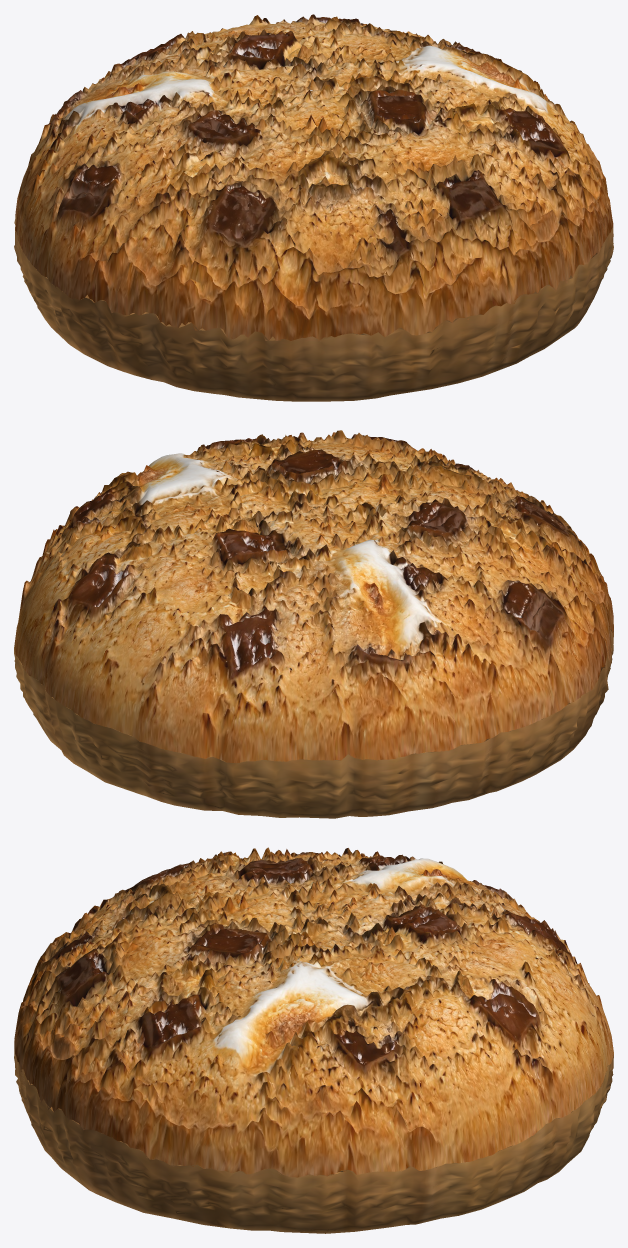
The model's file is cookie-smores.glb.
The picture shows the model from 3 angles, top to bottom: view 1: azimuth 30°, elevation 25°; view 2: azimuth 150°, elevation 25°; view 3: azimuth 270°, elevation 25°; orthographic projection.
Parts seen in each view (by area): view 1: base | V3 | Photographic sculpt | smores.001, base | V3 | Craggy baked edge | smores.001; view 2: base | V3 | Photographic sculpt | smores.001, base | V3 | Craggy baked edge | smores.001; view 3: base | V3 | Photographic sculpt | smores.001, base | V3 | Craggy baked edge | smores.001.
Part boxes in pixels (bbox=[...]): base | V3 | Photographic sculpt | smores.001: bbox=[15, 14, 613, 340]; base | V3 | Craggy baked edge | smores.001: bbox=[14, 91, 613, 401]; base | V3 | Photographic sculpt | smores.001: bbox=[14, 430, 613, 763]; base | V3 | Craggy baked edge | smores.001: bbox=[14, 506, 613, 818]; base | V3 | Photographic sculpt | smores.001: bbox=[14, 847, 613, 1177]; base | V3 | Craggy baked edge | smores.001: bbox=[14, 1040, 613, 1233].
Bounding box in the file's own units: 0.069 × 0.0258 × 0.0686.
Materials: 2 (2 with a texture image).
